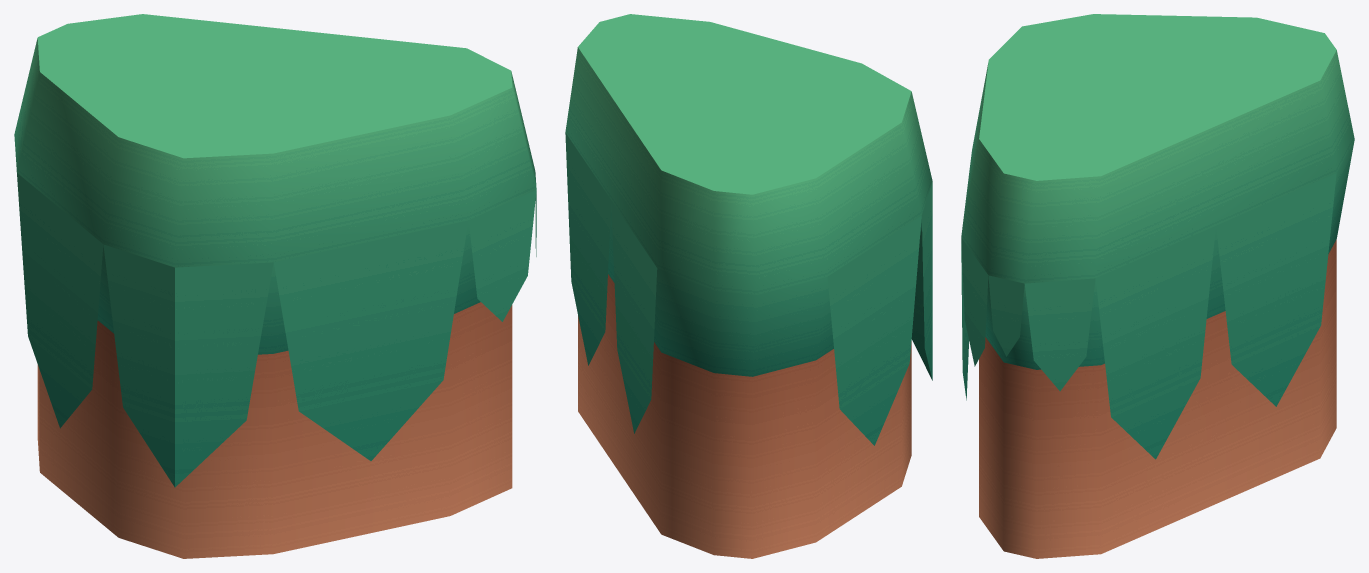
The model's file is block-grass-corner-overhang-low.014_lev2.glb.
3 views of the same model, side by side, from view 1: azimuth 30°, elevation 25°; view 2: azimuth 150°, elevation 25°; view 3: azimuth 270°, elevation 25° (orthographic). The views are drawn at different scales.
Parts seen in each view (by area): view 1: block-grass-corner-overhang-low.014_lev2; view 2: block-grass-corner-overhang-low.014_lev2; view 3: block-grass-corner-overhang-low.014_lev2.
Part boxes in pixels (x1,y1,x2,y2): block-grass-corner-overhang-low.014_lev2: [14, 14, 536, 558]; block-grass-corner-overhang-low.014_lev2: [565, 14, 932, 558]; block-grass-corner-overhang-low.014_lev2: [961, 14, 1354, 558].
Size of the model in its own units: 2.98 by 2.86 by 2.7.
1 material, 1 textured.
